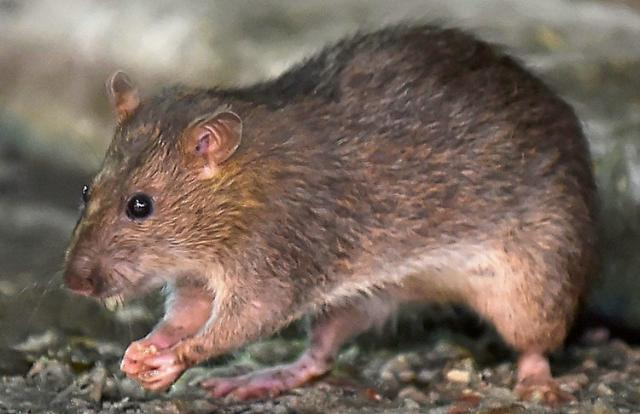rat: (52, 61, 380, 404)
